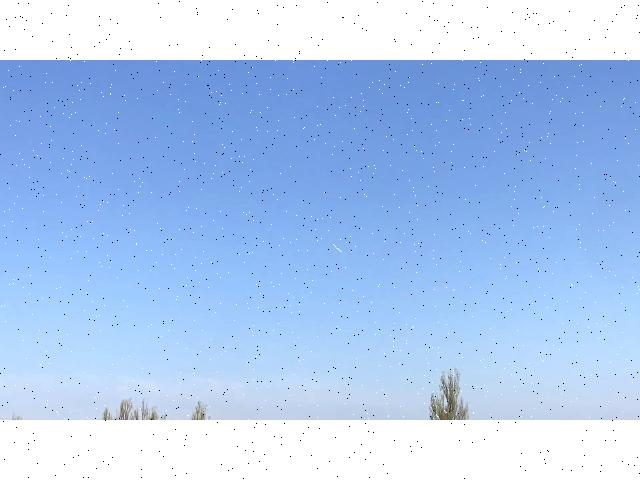Anti-Drone: (319, 230, 349, 263)
